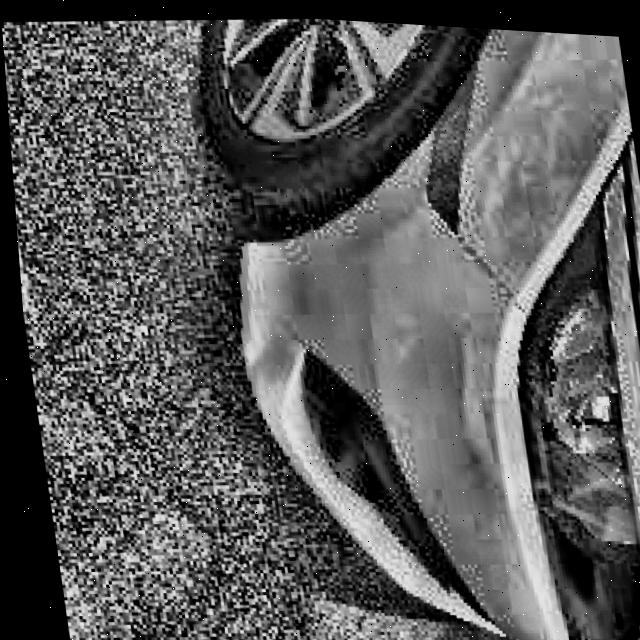bumper_dent: (236, 312, 307, 414)
